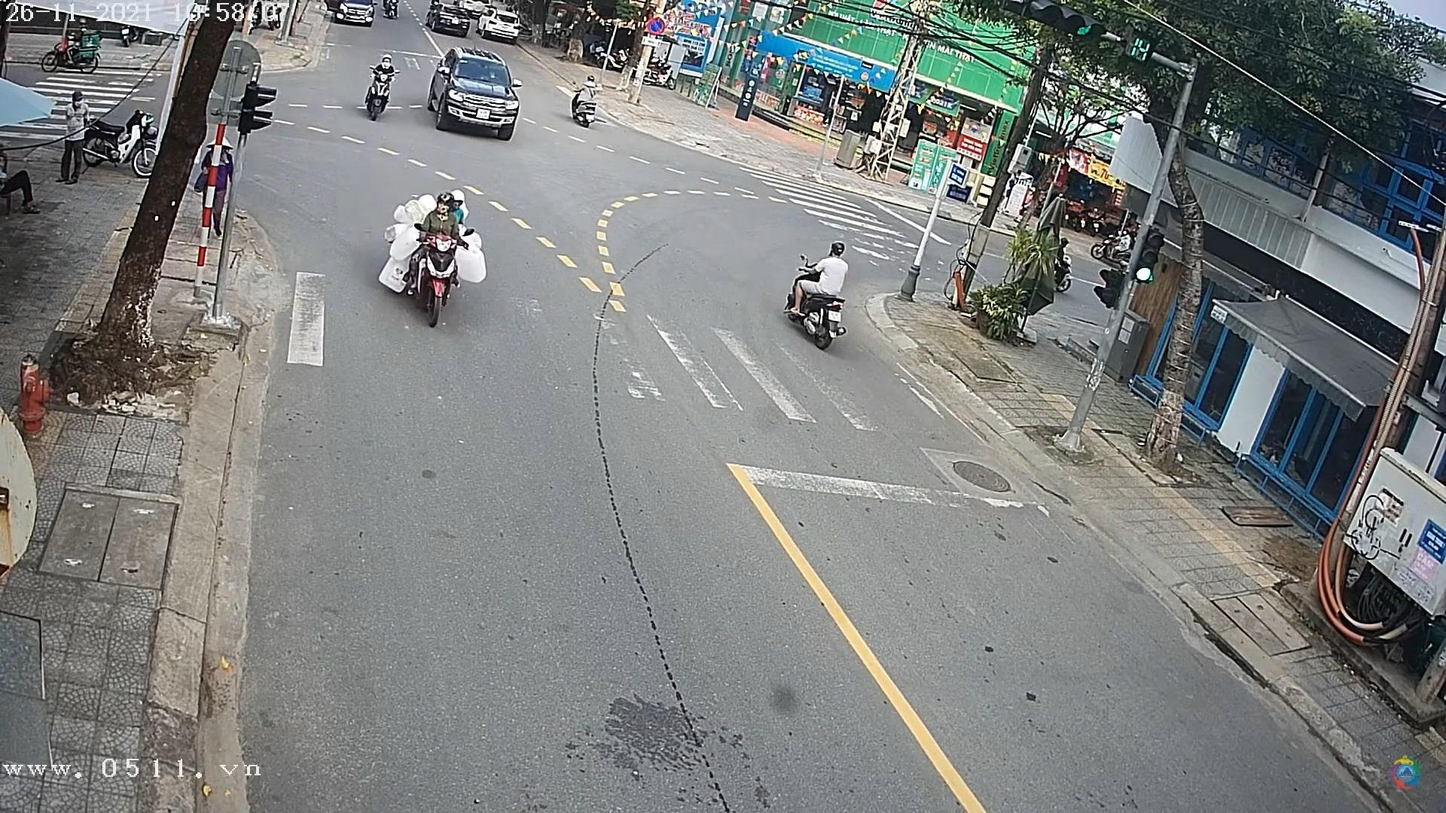car: (426, 47, 525, 141), (333, 3, 379, 26)
motorbike: (405, 230, 475, 329), (362, 61, 400, 119)
